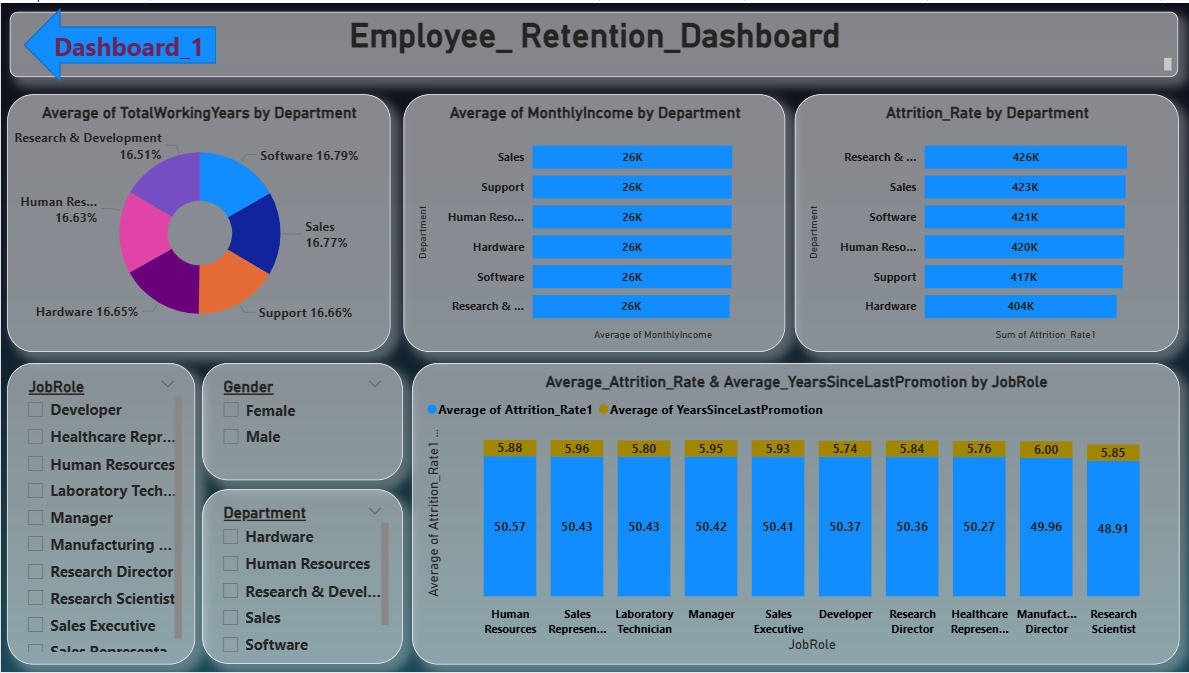

This screenshot's page, from the dashboard's own definition file:
{"tool":"powerbi","page":{"name":"Dashboard_2","canvas":[1280,720],"ordinal":7},"visuals":[{"type":"textbox","title":"Employee_ Retention_Dashboard","box":[10,10,1258.8,70],"z":0},{"type":"pieChart","fields":{"Category":["Sheet1.Department"],"Y":["Avg(Sheet1 (2).TotalWorkingYears)"]},"box":[7.2,97.7,412.5,277.4],"z":1000},{"type":"columnChart","title":"Average_Attrition_Rate & Average_YearsSinceLastPromotion by JobRole","fields":{"Category":["Sheet1.JobRole"],"Y":["Avg(Sheet1.Attrition_Rate1)","Avg(Sheet1 (2).YearsSinceLastPromotion)"]},"box":[442.6,387.1,826.1,324.4],"z":2000},{"type":"shape","box":[24.1,4.8,207.4,79.6],"z":3000},{"type":"clusteredBarChart","title":"Attrition_Rate by Department","fields":{"Y":["Sum(Sheet1.Attrition_Rate1)"],"Category":["Sheet1.Department"]},"box":[855.1,97.7,413.7,277.4],"z":4000},{"type":"clusteredBarChart","fields":{"Category":["Sheet1.Department"],"Y":["Avg(Sheet1 (2).MonthlyIncome)"]},"box":[433,97.7,411.3,277.4],"z":5000},{"type":"slicer","fields":{"Values":["Sheet1.Department"]},"box":[217.1,523.4,215.9,188.1],"z":6000},{"type":"slicer","fields":{"Values":["Sheet1.Gender"]},"box":[217.1,387.1,215.9,126.6],"z":7000},{"type":"slicer","fields":{"Values":["Sheet1.JobRole"]},"box":[7.2,387.1,202.6,324.4],"z":8000}]}

Visuals, with their boxes in screenshot pixels (x1, y1, x2, y2), scaled from the page's 1280x720 canvas onto the 1189x673 screenshot:
"Employee_ Retention_Dashboard" textbox: 9, 9, 1179, 75
pieChart - Sheet1.Department x Avg(Sheet1 (2).TotalWorkingYears): 7, 91, 390, 351
"Average_Attrition_Rate & Average_YearsSinceLastPromotion by JobRole" columnChart: 411, 362, 1179, 665
shape: 22, 4, 215, 79
"Attrition_Rate by Department" clusteredBarChart: 794, 91, 1179, 351
clusteredBarChart - Sheet1.Department x Avg(Sheet1 (2).MonthlyIncome): 402, 91, 784, 351
slicer - Sheet1.Department: 202, 489, 402, 665
slicer - Sheet1.Gender: 202, 362, 402, 480
slicer - Sheet1.JobRole: 7, 362, 195, 665
